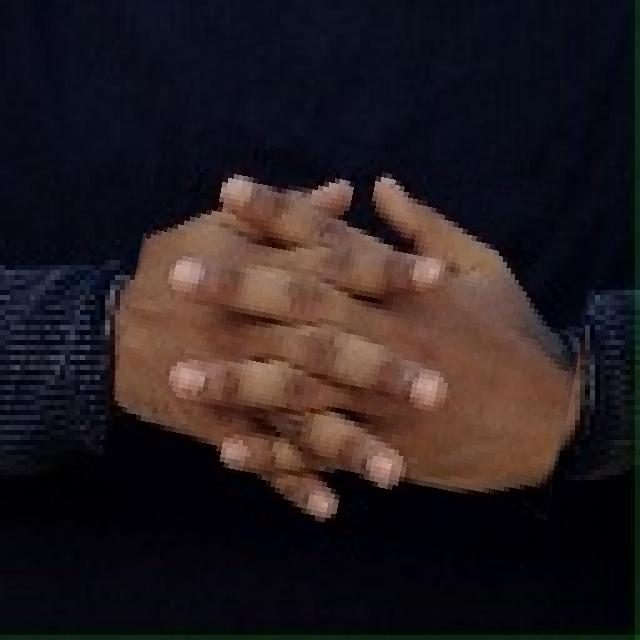W: (111, 130, 594, 548)
